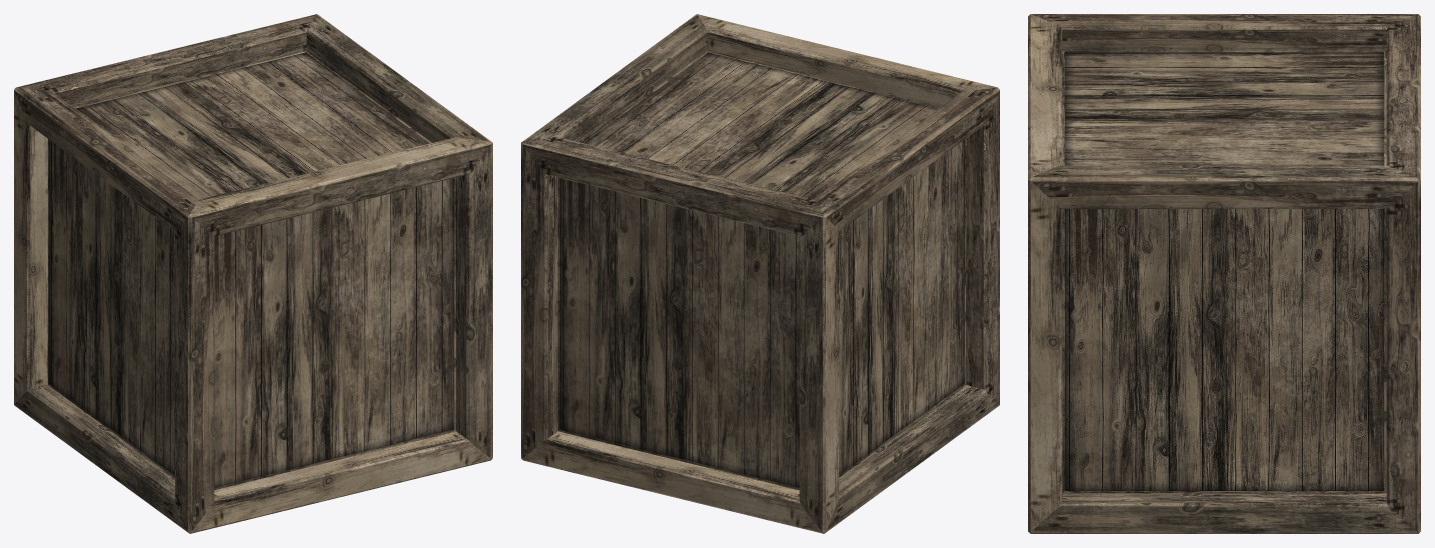
File: crate.obj
3 views of the same model, side by side, from view 1: azimuth 30°, elevation 25°; view 2: azimuth 150°, elevation 25°; view 3: azimuth 270°, elevation 25° (orthographic). The views are drawn at different scales.
Visible parts, largest first — view 1: pCube8_Untitled.001; view 2: pCube8_Untitled.001; view 3: pCube8_Untitled.001.
Boxes of the visible parts, x1=… form: pCube8_Untitled.001: x1=14, y1=14, x2=492, y2=533; pCube8_Untitled.001: x1=521, y1=14, x2=999, y2=533; pCube8_Untitled.001: x1=1028, y1=14, x2=1420, y2=533.
Bounding box in the file's own units: 1 × 1 × 1.
Materials: 1 (1 with a texture image).
